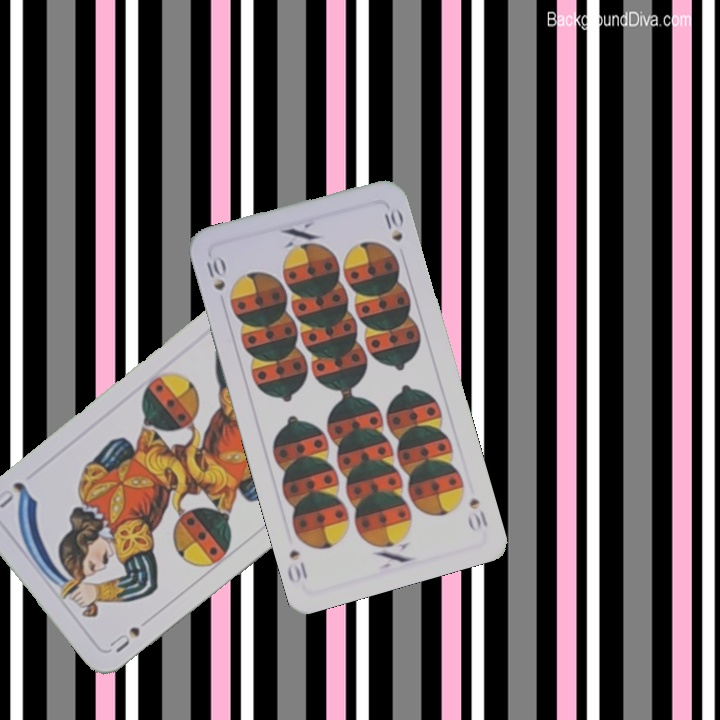S10: (202, 252, 229, 293), (463, 493, 490, 534)
SU: (105, 611, 156, 656)
